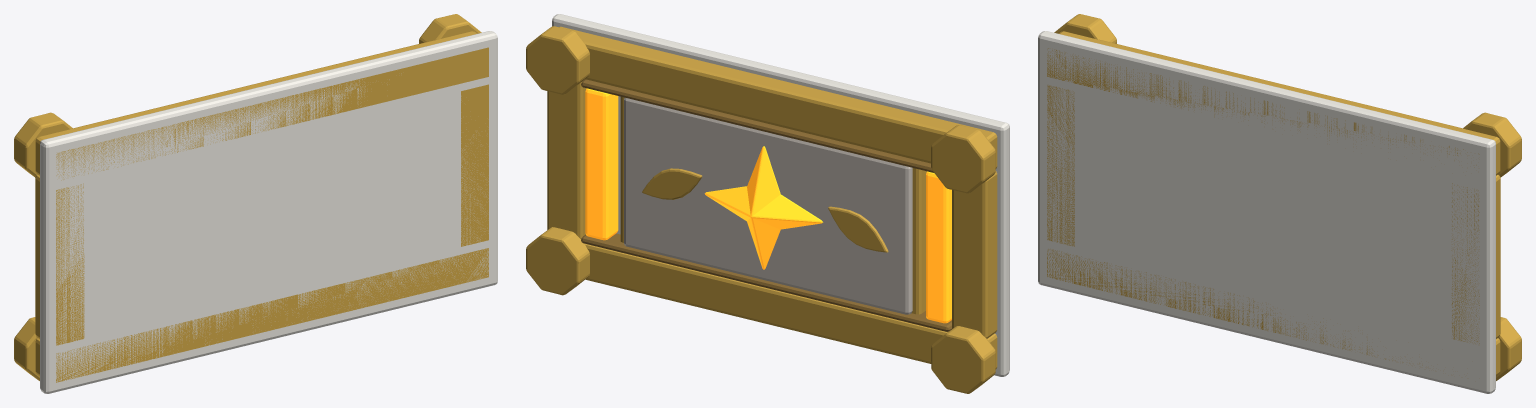
File: board_push_3.glb
3 renders of one model, left to right at view 1: azimuth 30°, elevation 25°; view 2: azimuth 150°, elevation 25°; view 3: azimuth 330°, elevation 25°, orthographic.
Visible parts, largest first — view 1: Back, FrameB, FrameT, FrameL, FrameR, Bolt1, Bolt3, Bolt0; view 2: Panel, FrameT, FrameB, Back, FrameL, FrameR, Bar1, Gem, Bar0, Bolt1, Bolt3, Bolt0 (+6 smaller); view 3: Back, FrameT, FrameB, FrameL, FrameR, Bolt0, Bolt2, Bolt1.
Boxes of the visible parts, x1,y1,x2,y2 form: Back: (40,31,497,393); FrameB: (35,248,488,382); FrameT: (35,31,488,180); FrameL: (35,175,84,345); FrameR: (461,84,488,246); Bolt1: (14,112,72,177); Bolt3: (14,317,39,380); Bolt0: (419,14,481,43); Panel: (624,97,912,314); FrameT: (558,26,997,168); FrameB: (585,243,997,369); Back: (552,14,1009,376); FrameL: (952,171,997,338); FrameR: (547,82,586,238); Bar1: (585,88,618,240); Gem: (704,146,823,269); Bar0: (926,171,951,323); Bolt1: (931,125,995,193); Bolt3: (931,326,995,393); Bolt0: (526,26,589,94); Back: (1038,31,1495,393); FrameT: (1047,31,1500,175); FrameB: (1047,249,1500,375); FrameL: (1047,85,1074,246); FrameR: (1451,175,1500,343); Bolt0: (1463,112,1521,177); Bolt2: (1496,317,1521,380); Bolt1: (1054,14,1116,43).
Bounding box in the file's own units: 1.01 × 0.5403 × 0.1264.
